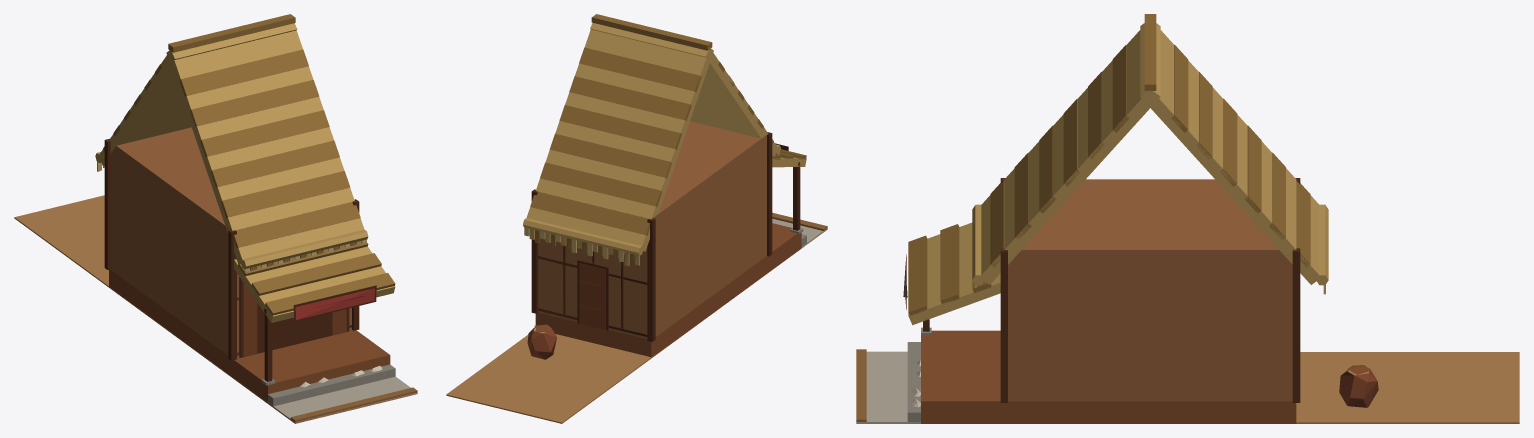
The model's file is bay2_mid.glb.
The picture shows the model from 3 angles, left to right: view 1: azimuth 30°, elevation 25°; view 2: azimuth 150°, elevation 25°; view 3: azimuth 270°, elevation 25°; orthographic projection. The views are drawn at different scales.
Visible parts, largest first — view 1: body; view 2: body; view 3: body.
Boxes of the visible parts, <box> form: body: <box>14,14,417,423</box>; body: <box>446,14,827,423</box>; body: <box>856,14,1519,423</box>.
Size of the model in its own units: 4.18 by 8.98 by 15.9.
